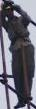boots: (14, 100, 26, 109)
gloves: (12, 4, 21, 12)
hard-hat: (2, 0, 14, 9)
